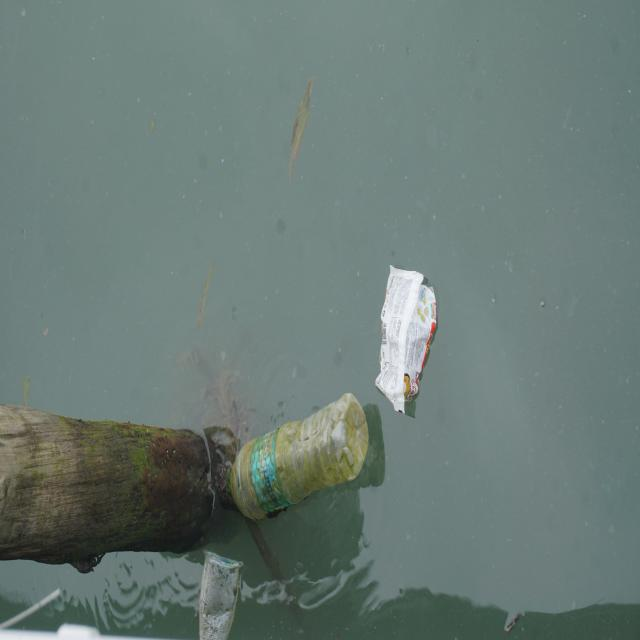Botol Plastik: (228, 393, 371, 526)
Bungkus Makanan: (375, 260, 442, 422)
Bungkus Minuman: (199, 545, 245, 640)
